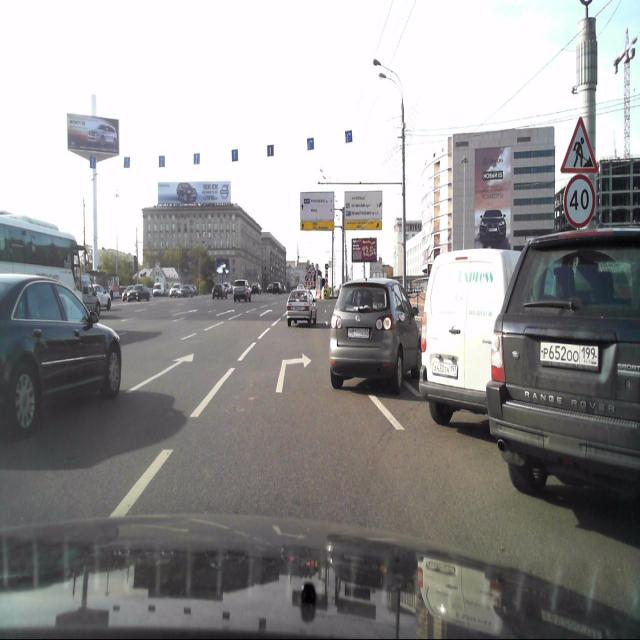road sign: (561, 119, 599, 171), (343, 189, 383, 220), (299, 192, 335, 221), (345, 220, 382, 234), (300, 221, 335, 232), (345, 131, 354, 145), (307, 138, 314, 152), (158, 156, 166, 167), (90, 158, 96, 172), (194, 152, 200, 165), (232, 148, 238, 160), (267, 146, 274, 156), (124, 157, 131, 167)
